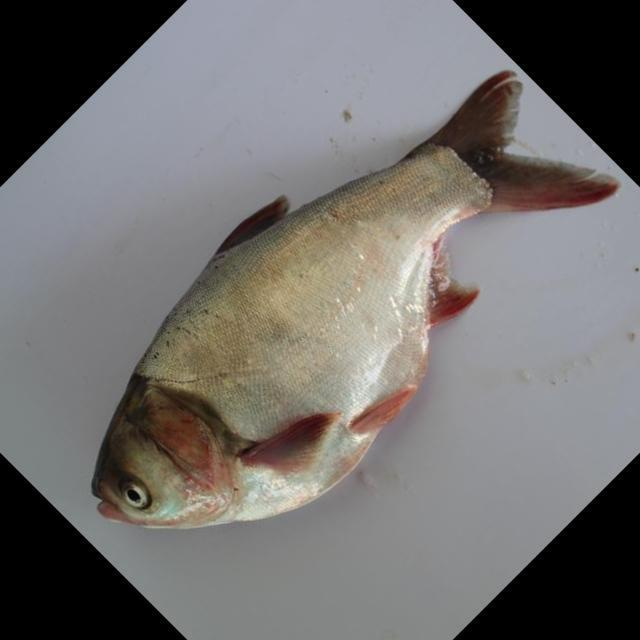SilverCarp: (77, 61, 593, 558)
